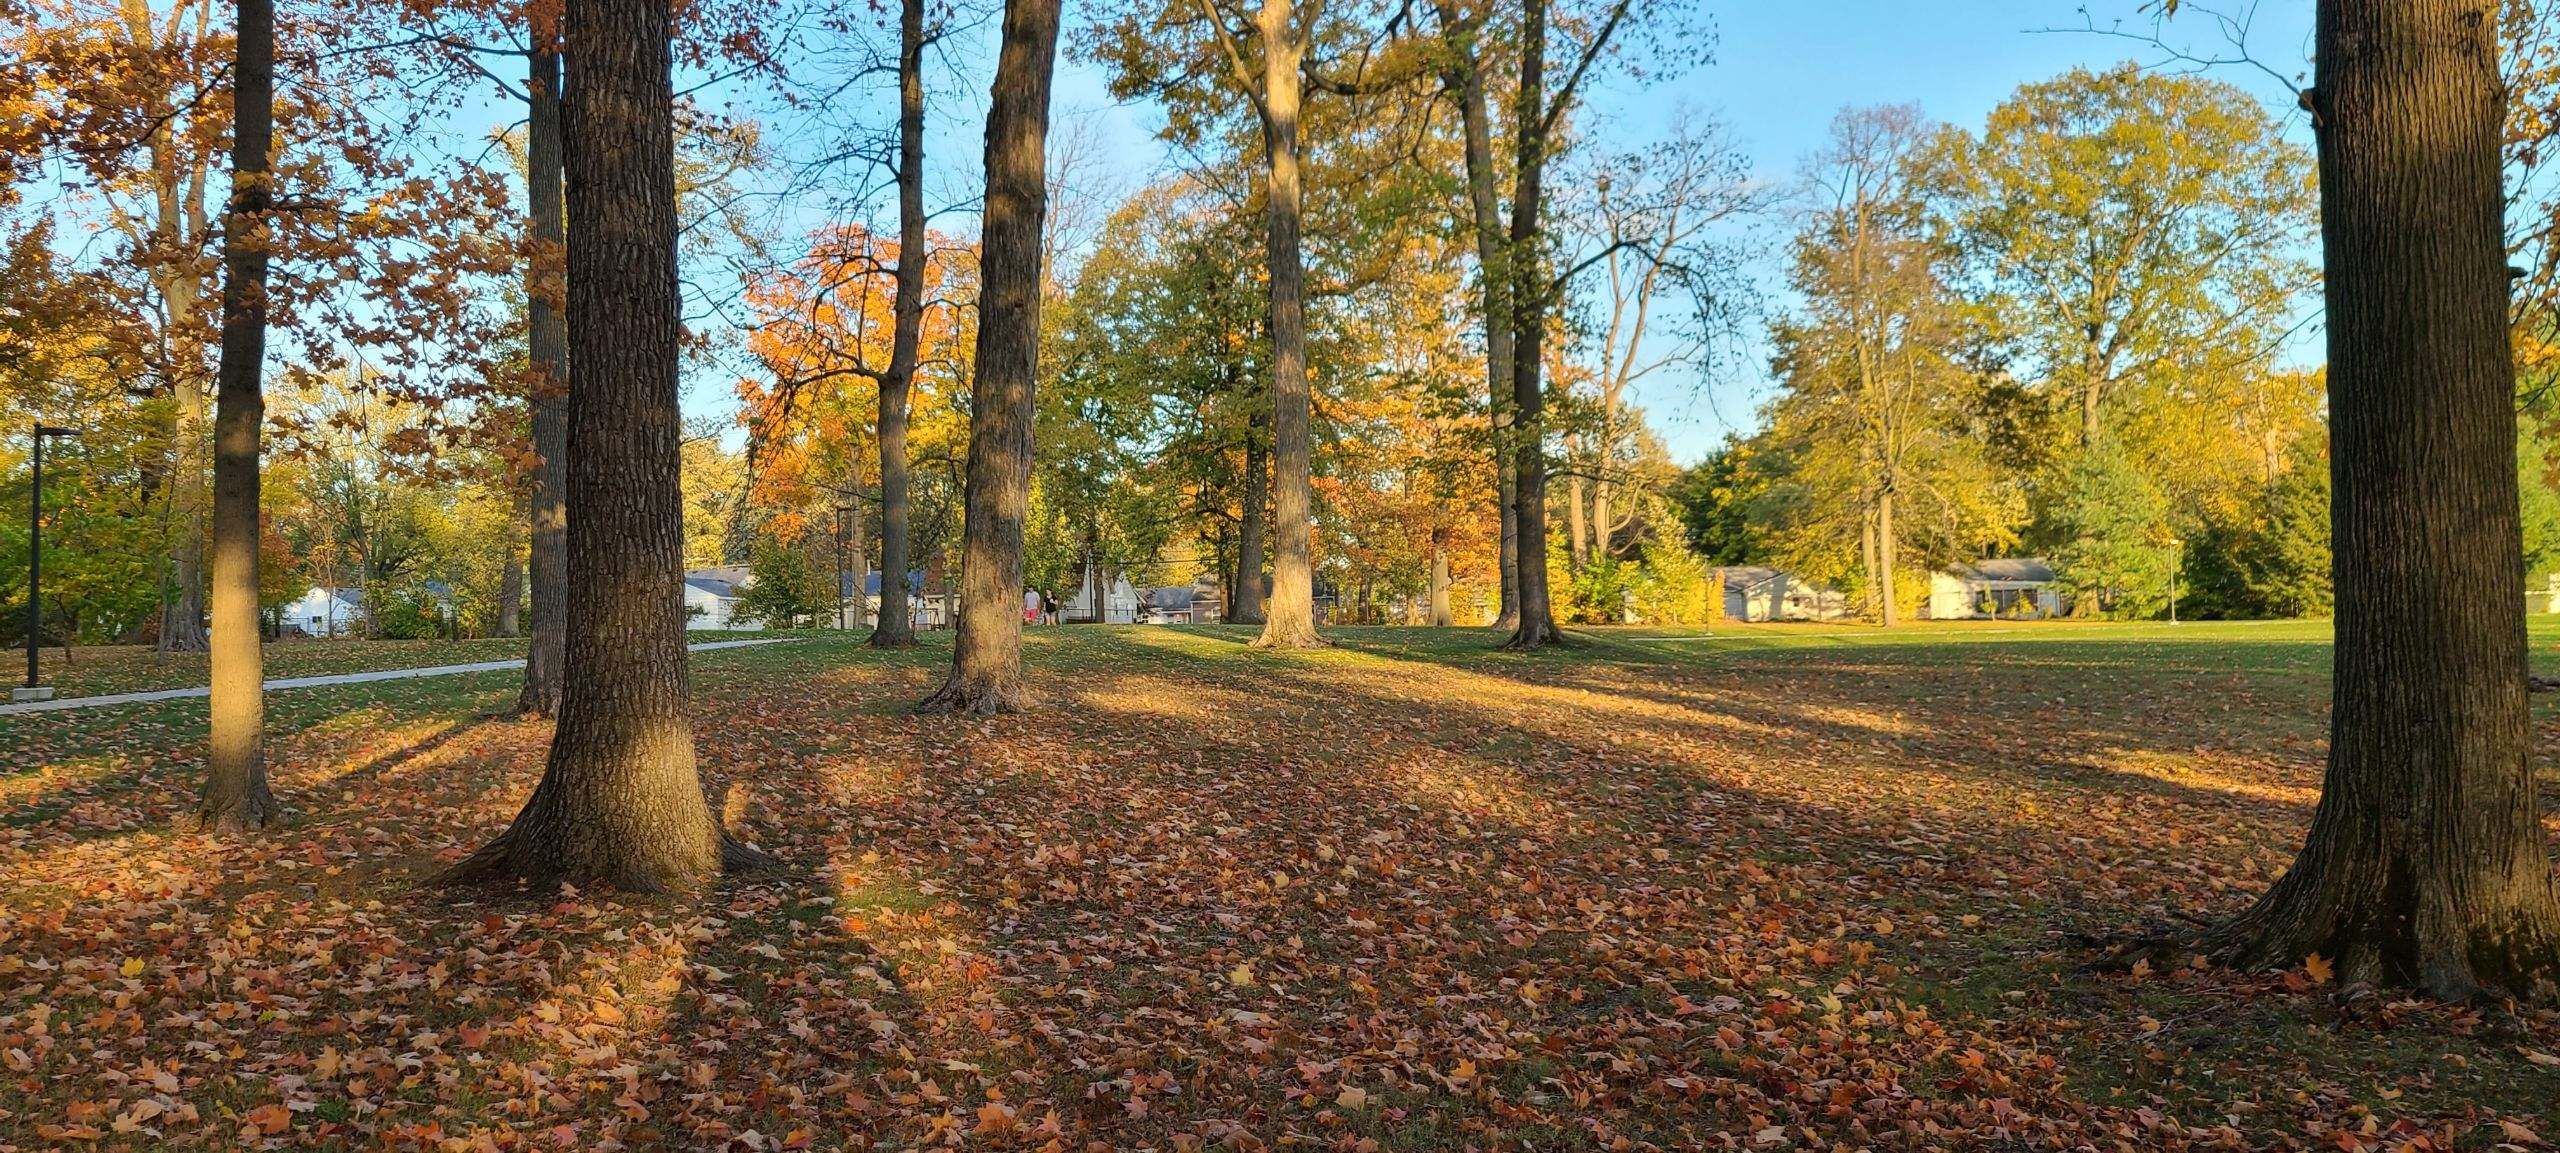tree: (2255, 2, 2555, 975), (487, 2, 720, 890), (940, 2, 1081, 710), (201, 3, 297, 835), (1252, 2, 1318, 645), (872, 2, 927, 645), (518, 3, 565, 719), (1510, 13, 1562, 648), (152, 165, 212, 653), (1229, 354, 1270, 629), (1496, 234, 1512, 635)
